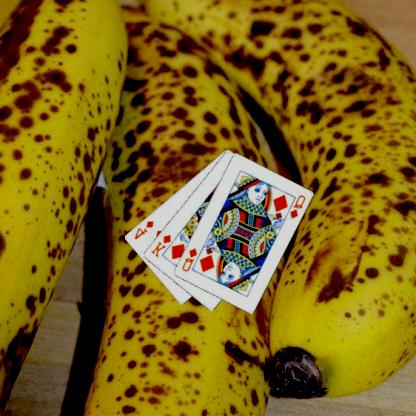4D: (133, 218, 156, 240)
KD: (150, 232, 174, 258)
QD: (181, 245, 200, 273), (289, 192, 308, 220)
